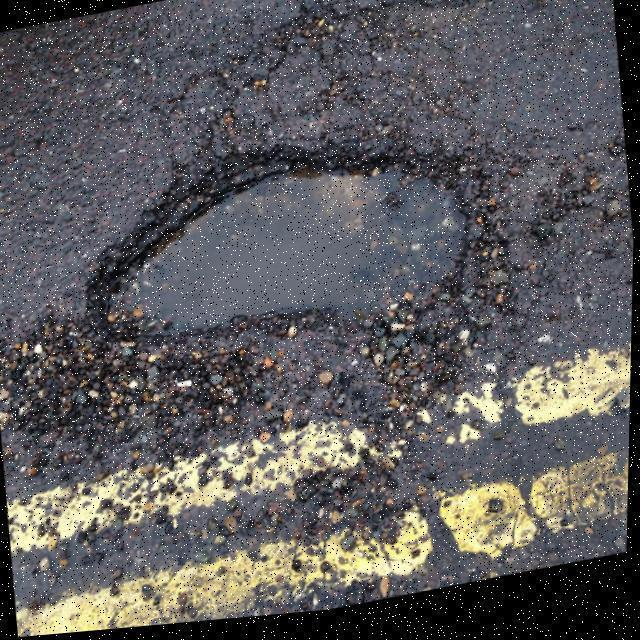Pothole: (81, 153, 488, 353)
